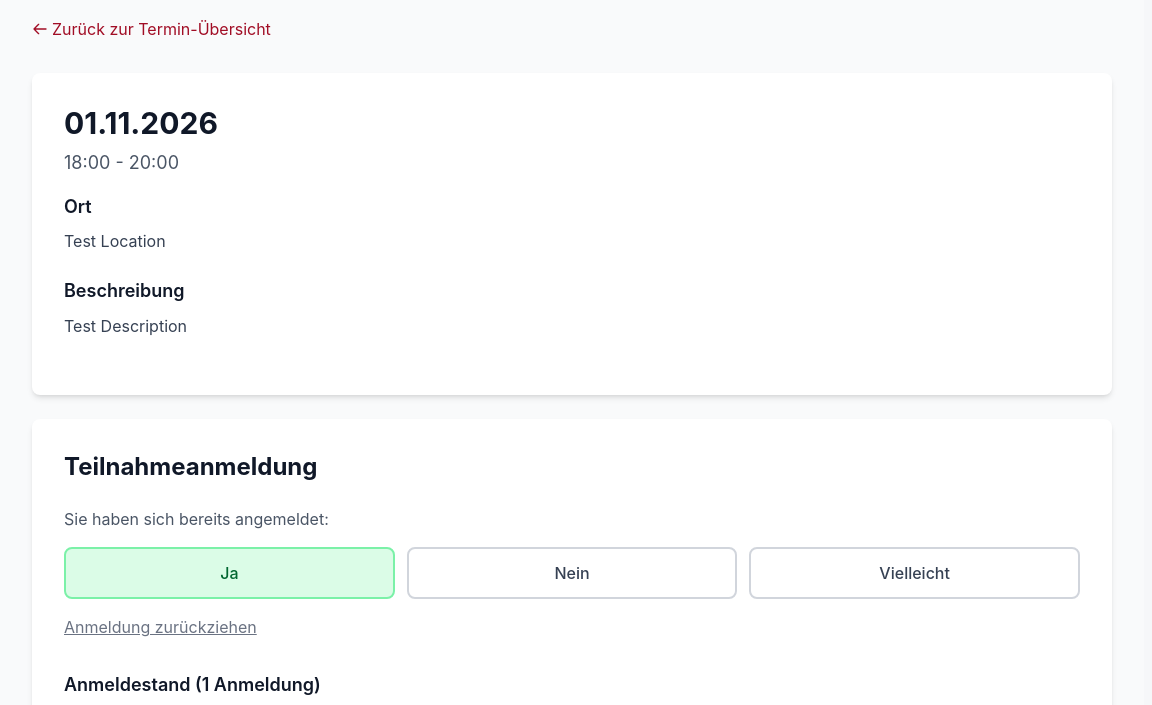
Scenario: EventDetailPage › updates registration chart section after deleting own vote
expect the heading "Anmeldestand (1 Anmeldung)" is shown: met, box [64,674,321,695]
Click the button "Anmeldung zurückziehen". click: (160, 627)
box: [64,615,257,639]
(page scrolled)
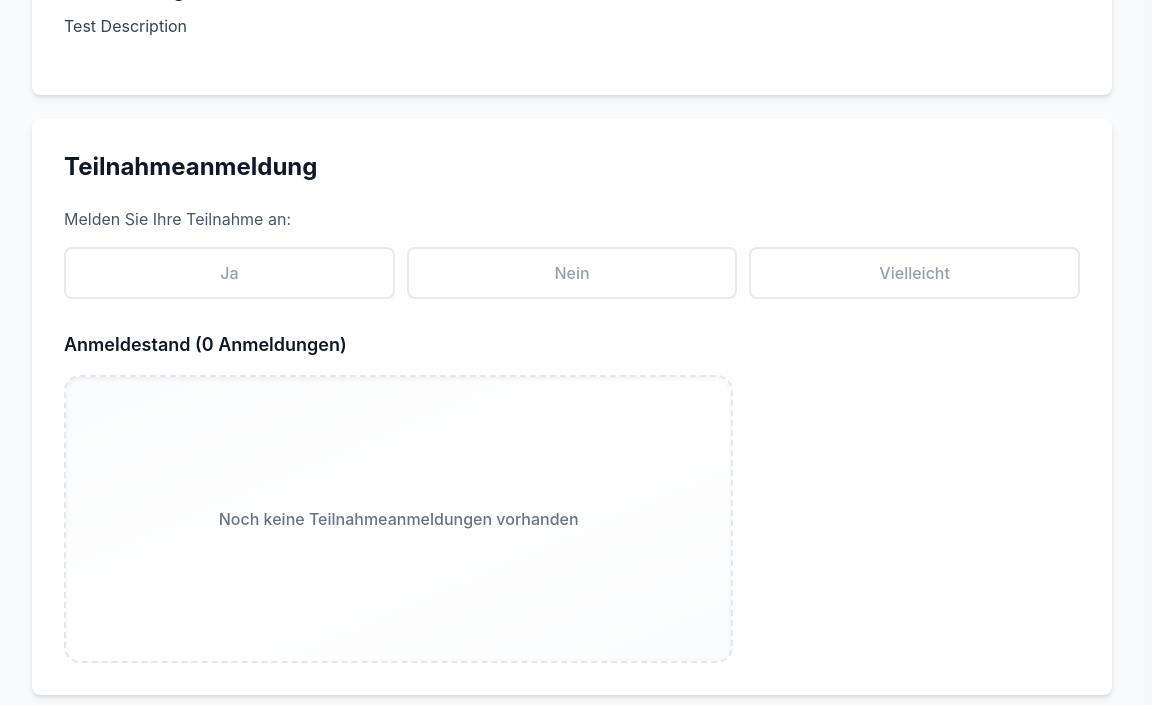
expect the heading "Anmeldestand (0 Anmeldungen)" is shown: met, box [64,334,347,355]
